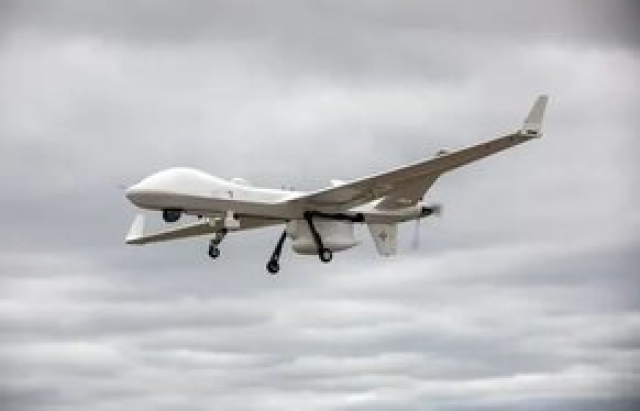military drone: (124, 94, 548, 274)
